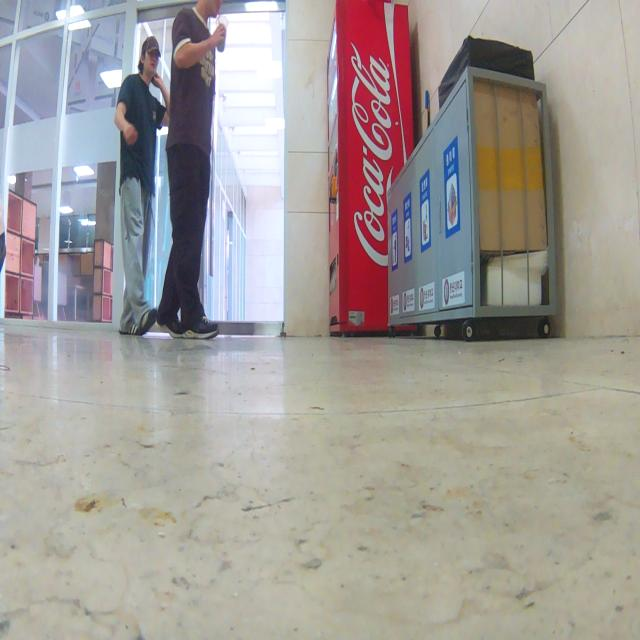target: (279, 319, 287, 342)
